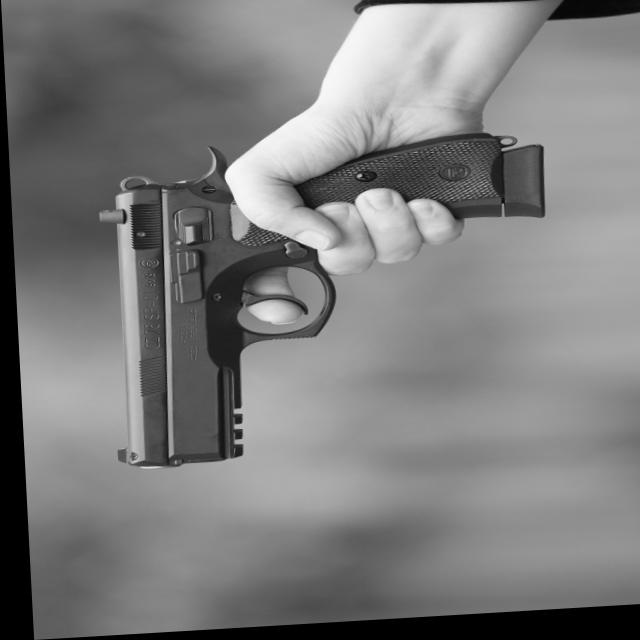handgun: (93, 133, 558, 477)
